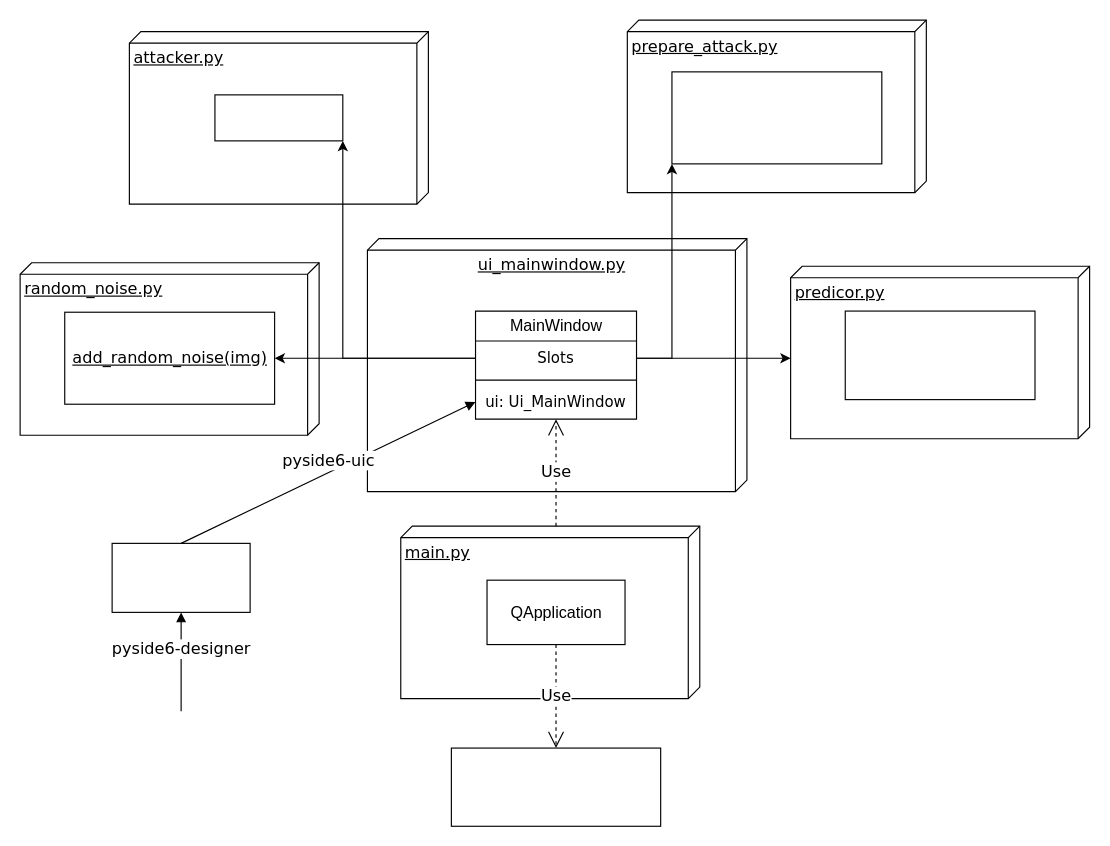
The diagram is 1110 pixels wide and 846 high, and some of its shapes have lost their labels. The shapes that lost their labels are listed below. From the top down, each one's centre as x and y in pixels, then its label:
At pixel 278 117: "attack(img)".
At pixel 776 117: "prepare_attack(img)".
At pixel 939 355: "model = VGG16 (weights='imagenet')".
At pixel 180 577: "mainwindow.ui".
At pixel 555 786: "qss/coffee.qss".
